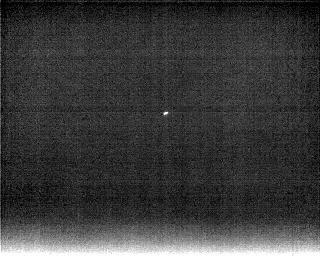BIRD: (161, 109, 171, 118)
